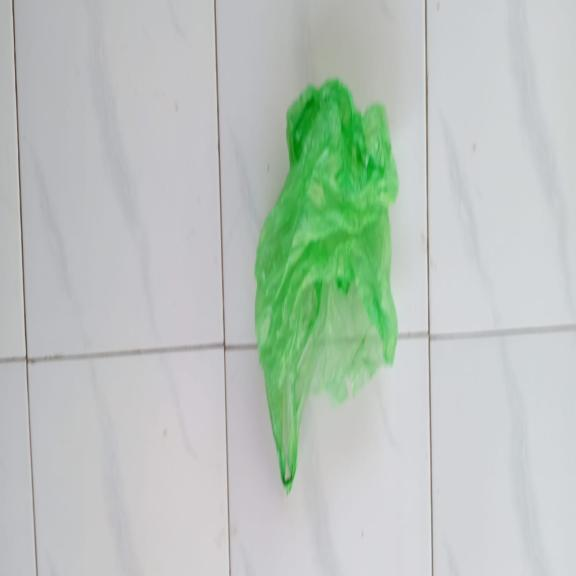Plastik: (254, 76, 400, 497)
